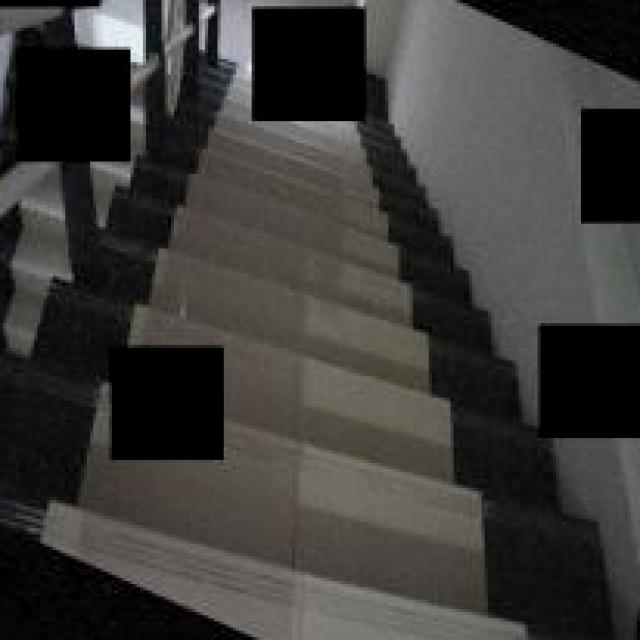downstair: (240, 144, 542, 640)
